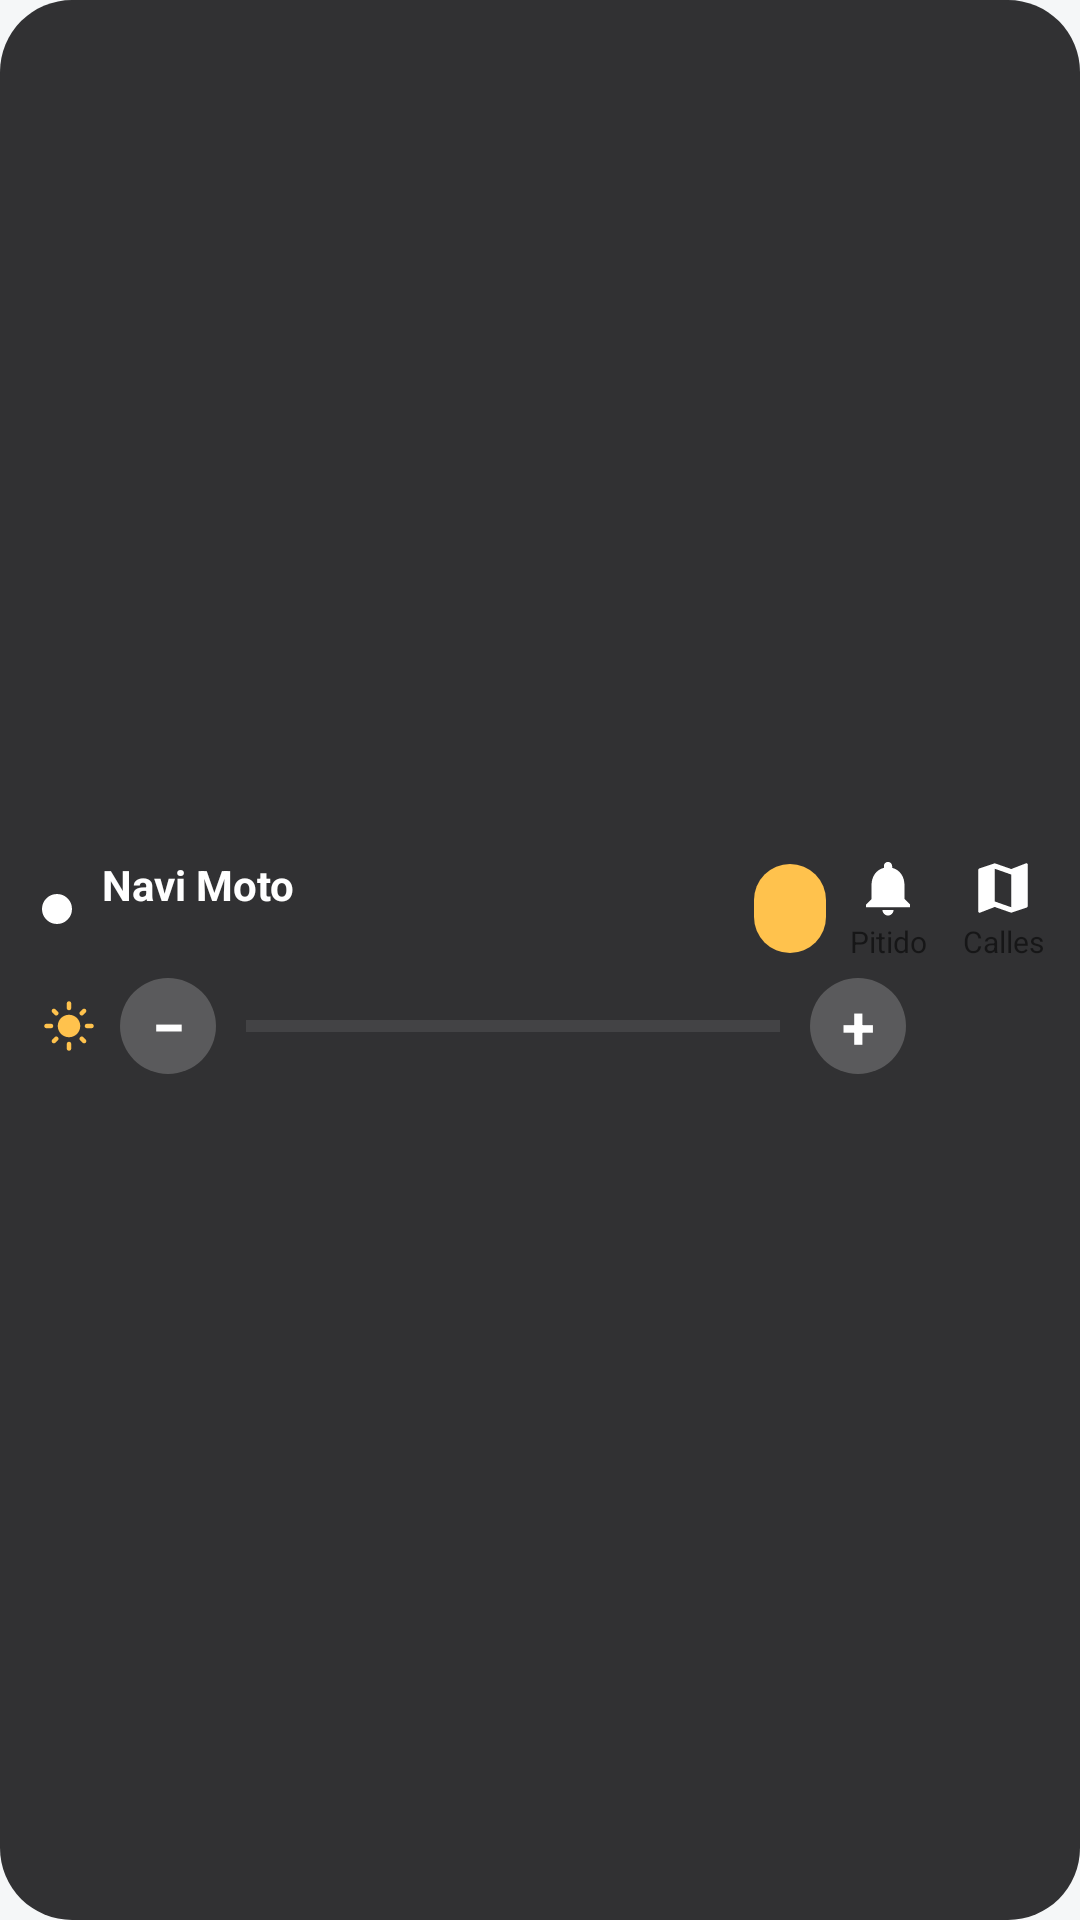

Icon bounding boxes for this 1080*1920 phone screenshot, format (x1, y1, x2, y2):
widget brightness: (44, 1001, 94, 1051)
